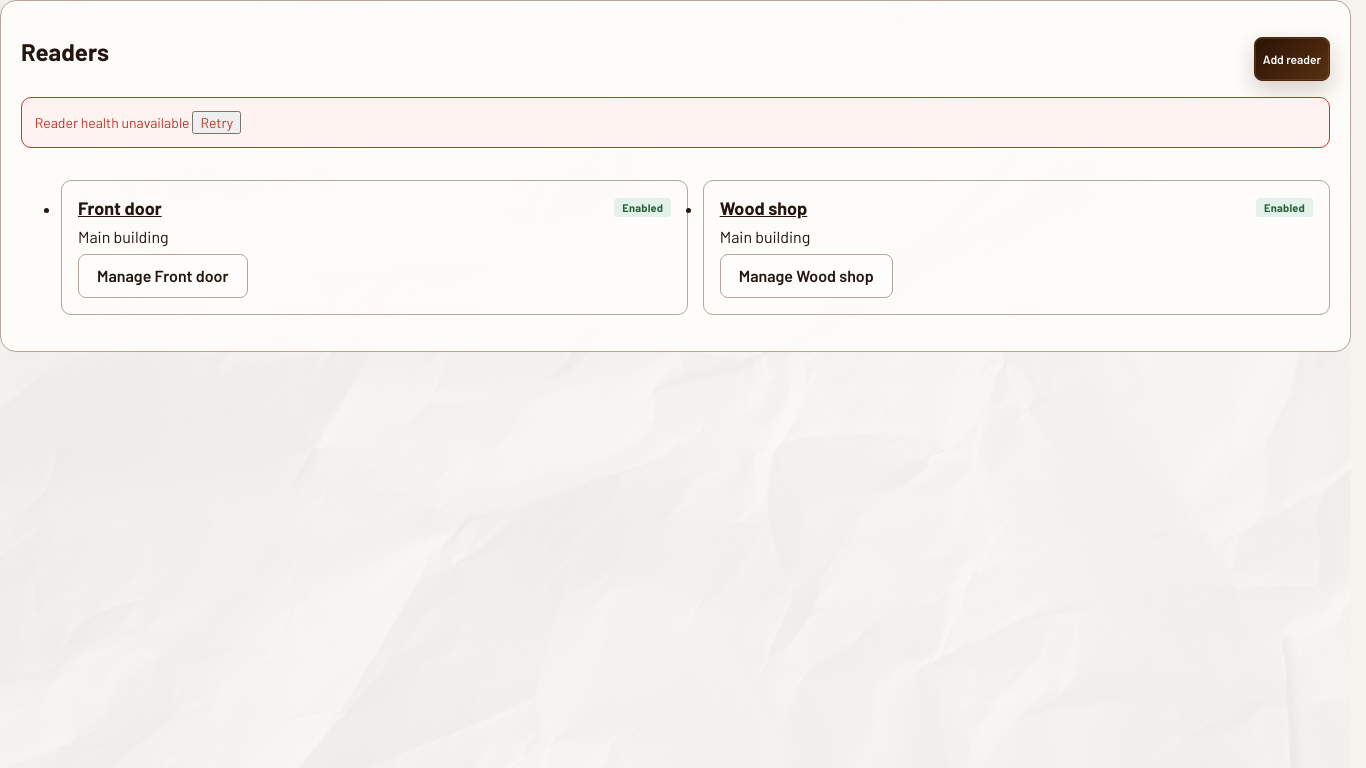
without live health the readers stay listed and manageable
What coordinates should you click on to do the following:
click the button "Manage Front door"
I would click on:
 (163, 276)
Its box is [78, 254, 248, 298].
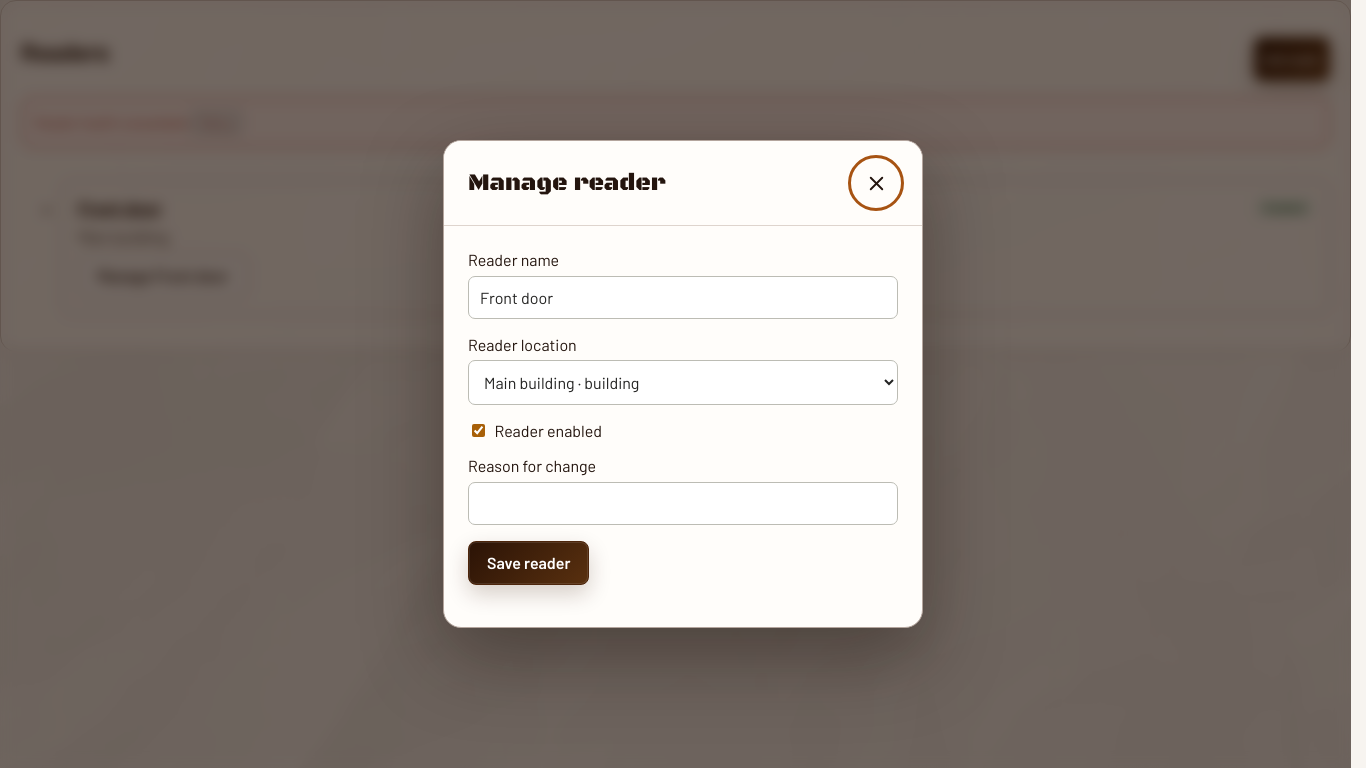
expect the dialog "Manage reader" is shown: met, box [443, 140, 923, 628]
